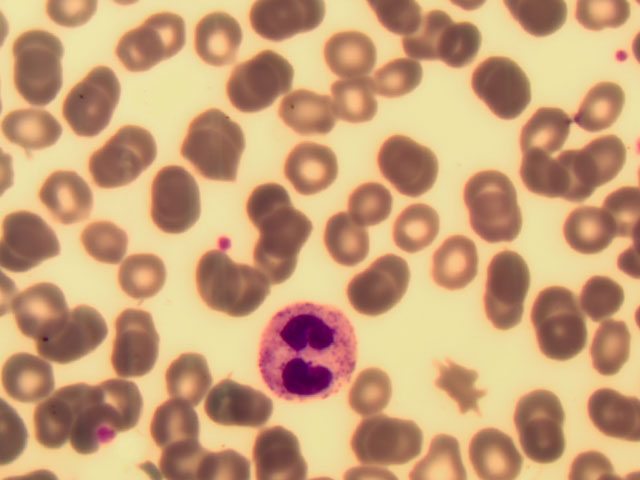Platelets: (96, 427, 131, 446), (612, 46, 631, 65), (217, 236, 233, 248)
RBC: (13, 53, 67, 105), (7, 19, 61, 71), (76, 56, 130, 108), (63, 80, 117, 132), (6, 104, 60, 156), (39, 167, 93, 219), (80, 217, 134, 269), (110, 250, 164, 302), (51, 301, 105, 353), (20, 281, 74, 333), (12, 213, 66, 265), (140, 165, 194, 217), (83, 139, 137, 191), (114, 117, 168, 169), (185, 134, 239, 186), (187, 106, 241, 158), (108, 31, 162, 83), (141, 12, 195, 64), (200, 9, 254, 61), (250, 45, 304, 97), (210, 65, 264, 117), (278, 86, 332, 138), (324, 81, 378, 133), (324, 36, 378, 88), (367, 58, 421, 110), (439, 19, 493, 71), (400, 10, 454, 62), (471, 56, 525, 108), (373, 130, 427, 182), (390, 148, 444, 200), (339, 178, 393, 230), (287, 142, 341, 194), (240, 172, 294, 224), (262, 209, 316, 261), (248, 232, 302, 284), (222, 259, 276, 311), (189, 254, 243, 306), (345, 273, 399, 325), (365, 250, 419, 302), (389, 200, 443, 252), (317, 209, 371, 261), (427, 235, 481, 287), (467, 200, 521, 252), (465, 168, 519, 220), (524, 148, 578, 200), (523, 107, 577, 159), (582, 83, 636, 135), (586, 130, 640, 182), (552, 154, 606, 206), (561, 204, 615, 256), (479, 250, 533, 302), (477, 272, 531, 324), (523, 281, 577, 333), (528, 306, 582, 358), (575, 269, 629, 321), (586, 327, 640, 379), (586, 384, 640, 436), (509, 382, 563, 434), (514, 414, 568, 466), (466, 428, 520, 480), (414, 428, 468, 480), (382, 415, 436, 467), (339, 406, 393, 458), (356, 371, 410, 423), (234, 380, 288, 432), (197, 371, 251, 423), (158, 346, 212, 398), (142, 393, 196, 445), (105, 334, 159, 386), (103, 303, 157, 355), (87, 368, 141, 420), (49, 372, 103, 424), (12, 403, 66, 455), (8, 351, 62, 403), (254, 428, 308, 480), (161, 441, 205, 480)
WBC: (254, 304, 357, 397)
